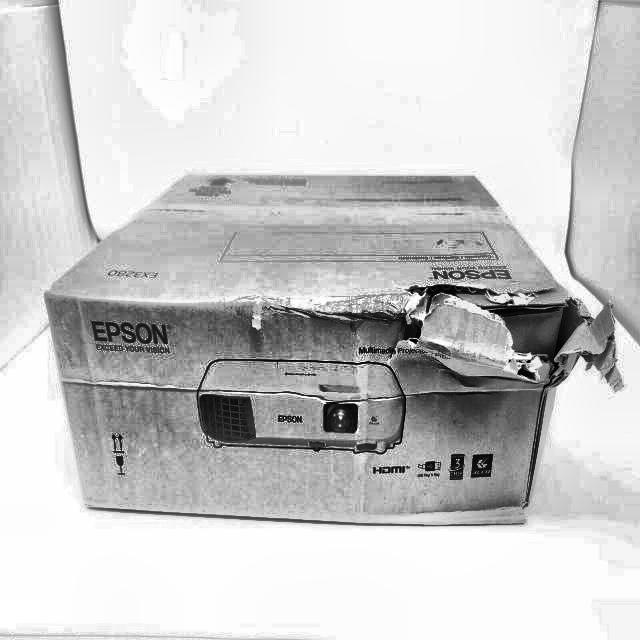box: (34, 167, 630, 538)
hole: (401, 280, 583, 378)
